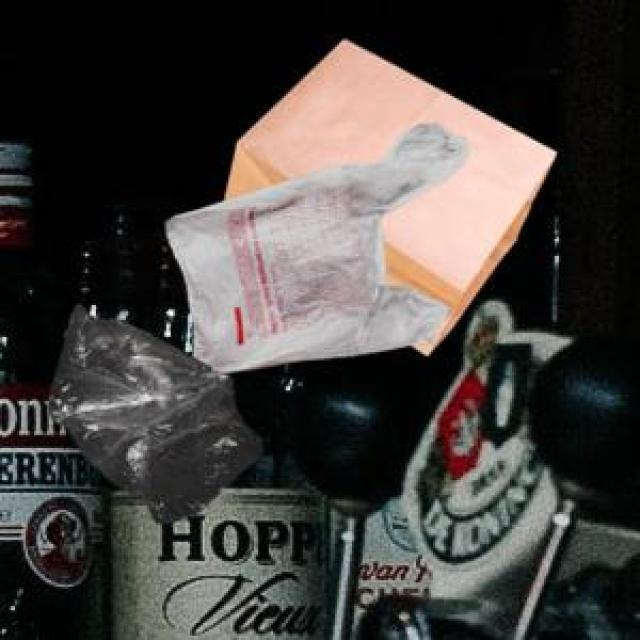paper: (222, 36, 553, 350)
